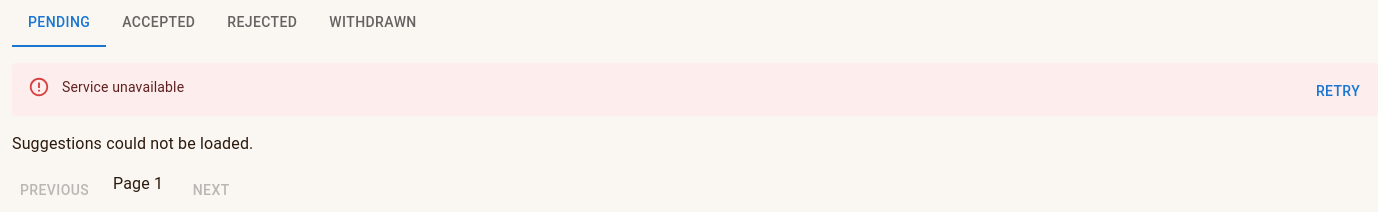
Test: shows query failures as errors with retry rather than stale cards or a false empty result
This screenshot has width=1378, height=212.
Expected: the text "No suggestions match" is not shown
Click the button "Retry" at (1338, 91), box 1306,73 -> 1370,110
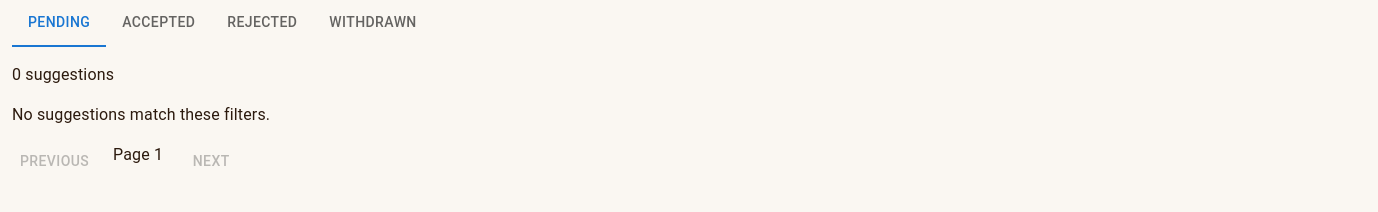
Result: the text "No suggestions match" is shown at 12,105 -> 270,124
Result: the text "Service unavailable" is gone
